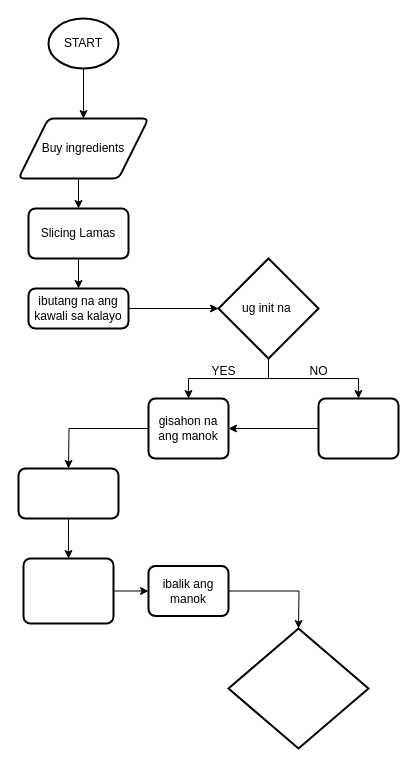
Image size: 416x766. Some labels were removed from this diagram. The shapes that lost their labels are listed below. From the top down, each one's centre as x and y in pixels, then its label:
At (x=358, y=428): "huwatan sa".
At (x=68, y=493): "set aside ang manok".
At (x=68, y=590): "gisahon ang lamas".
At (x=298, y=688): "Toyo magic sarap paminta durog sugar water".
